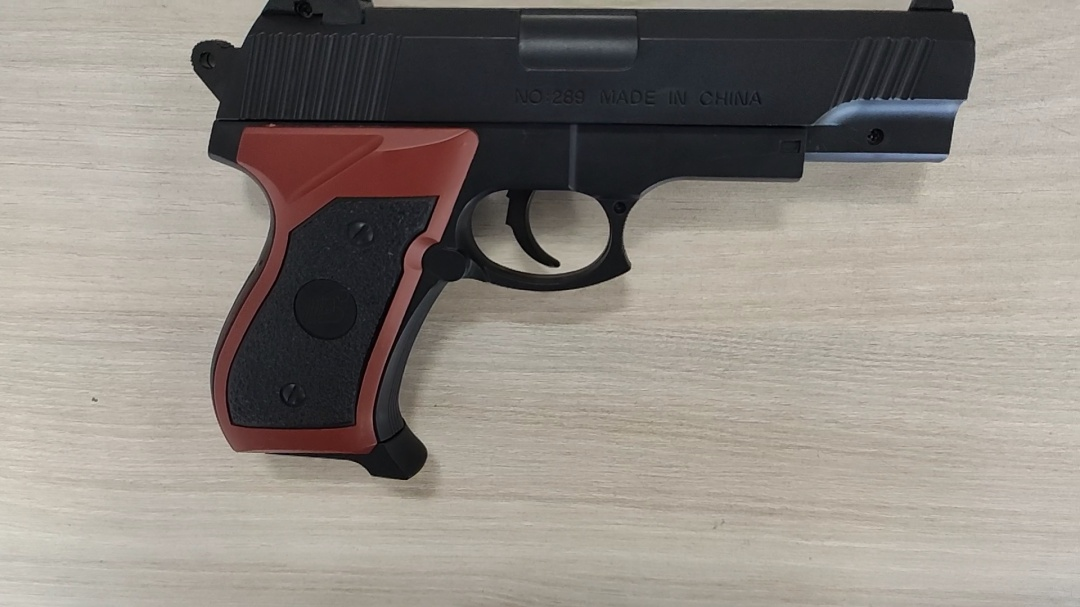gun: (187, 3, 979, 484)
